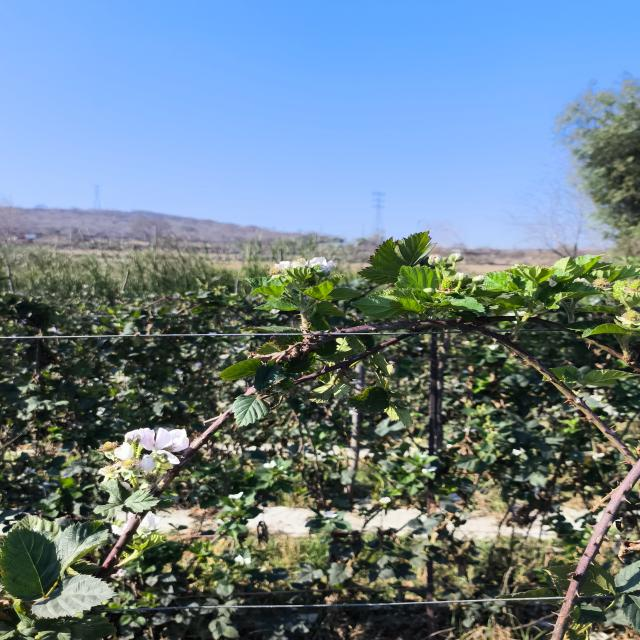boton: (448, 252, 464, 263), (429, 255, 445, 265), (472, 275, 484, 285), (454, 272, 467, 281)
flor: (140, 428, 189, 454), (307, 257, 335, 272)
